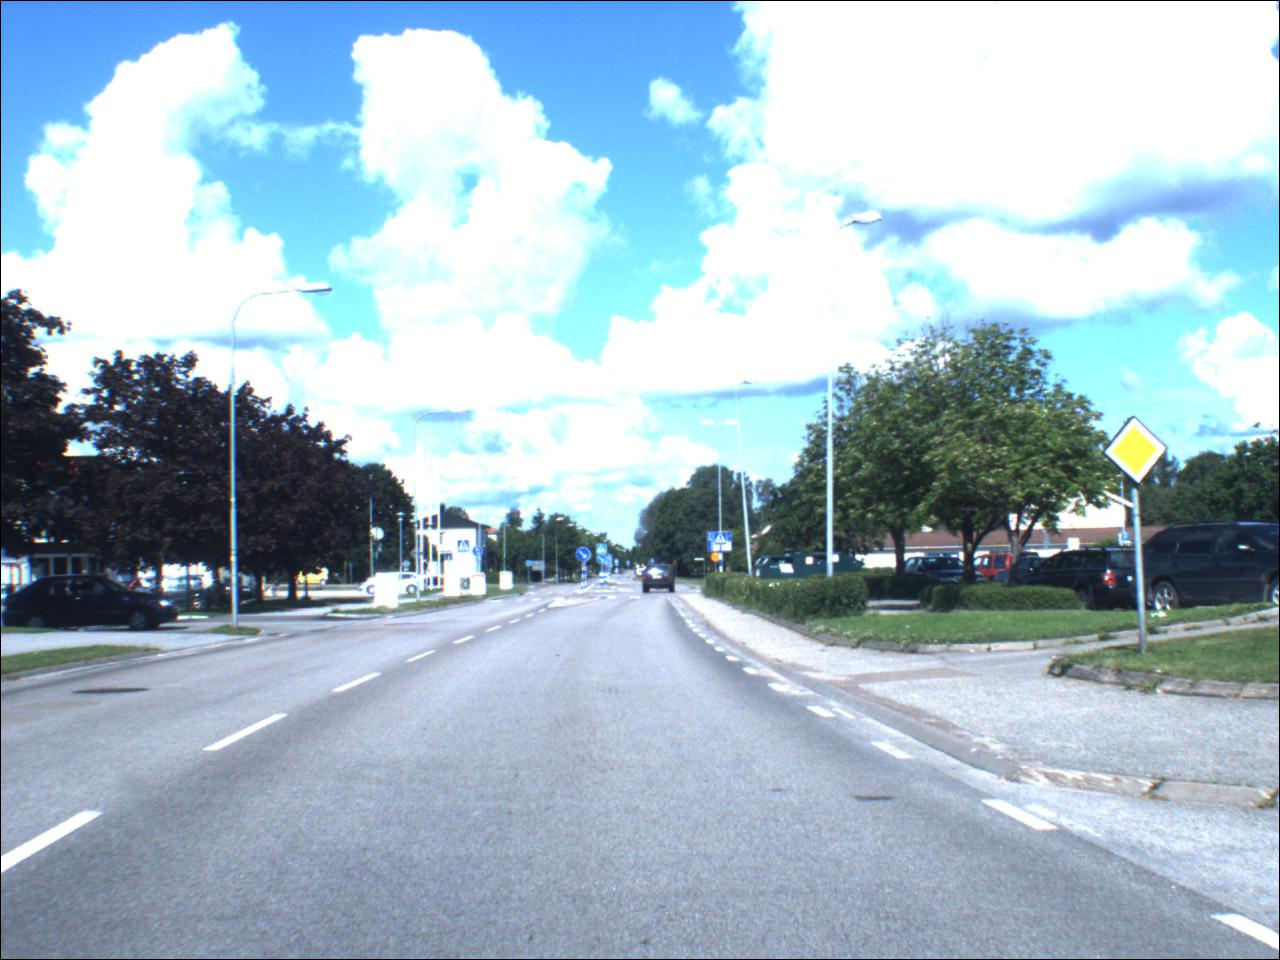50_SIGN: (712, 554, 722, 566)
PASS_RIGHT_SIDE: (578, 549, 594, 565), (598, 557, 609, 567), (608, 564, 615, 571)
PEDESTRIAN_CROSSING: (717, 534, 729, 548), (598, 545, 610, 557), (460, 541, 471, 554), (608, 555, 615, 565)
PRIORITY_ROAD: (1103, 417, 1170, 487)
